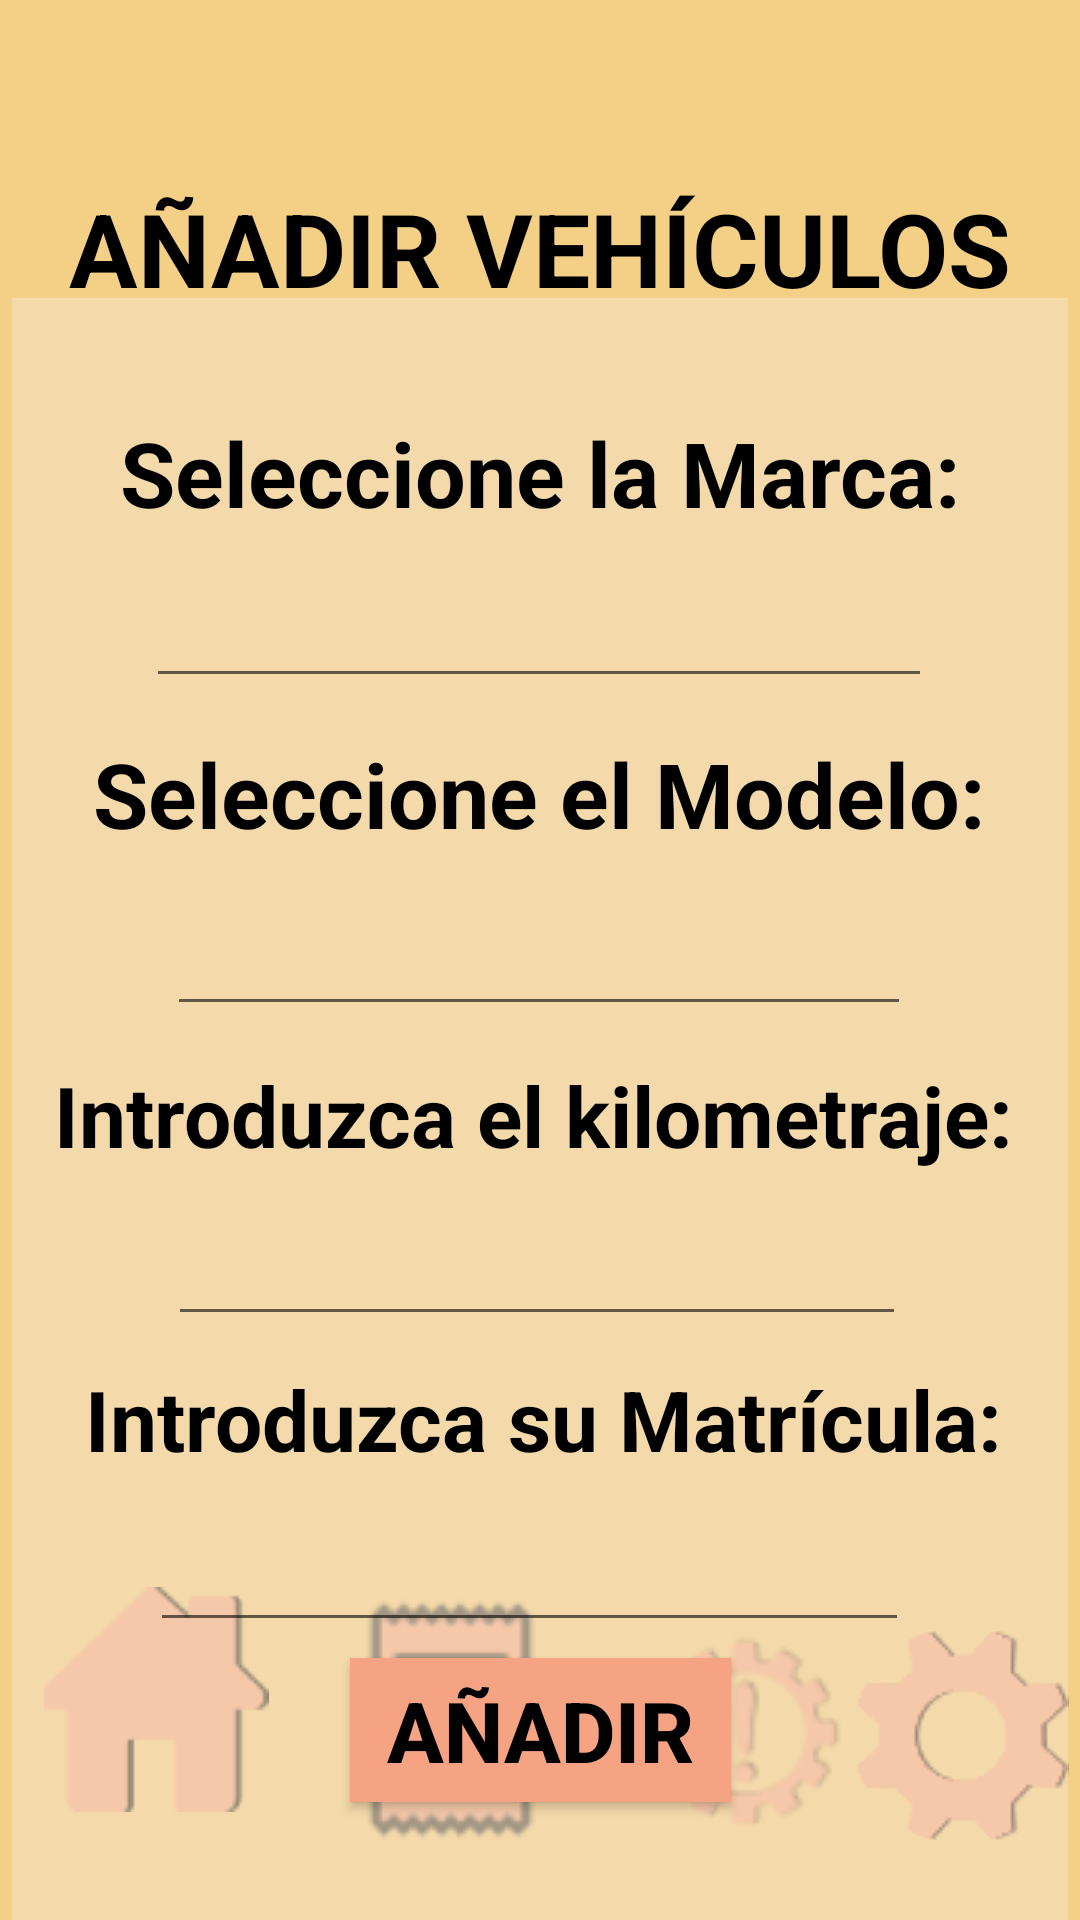

Icons on this 1080px x 1920px Android screen, each with the point to tap as (x=x, y=y):
config: (x=995, y=1735)
